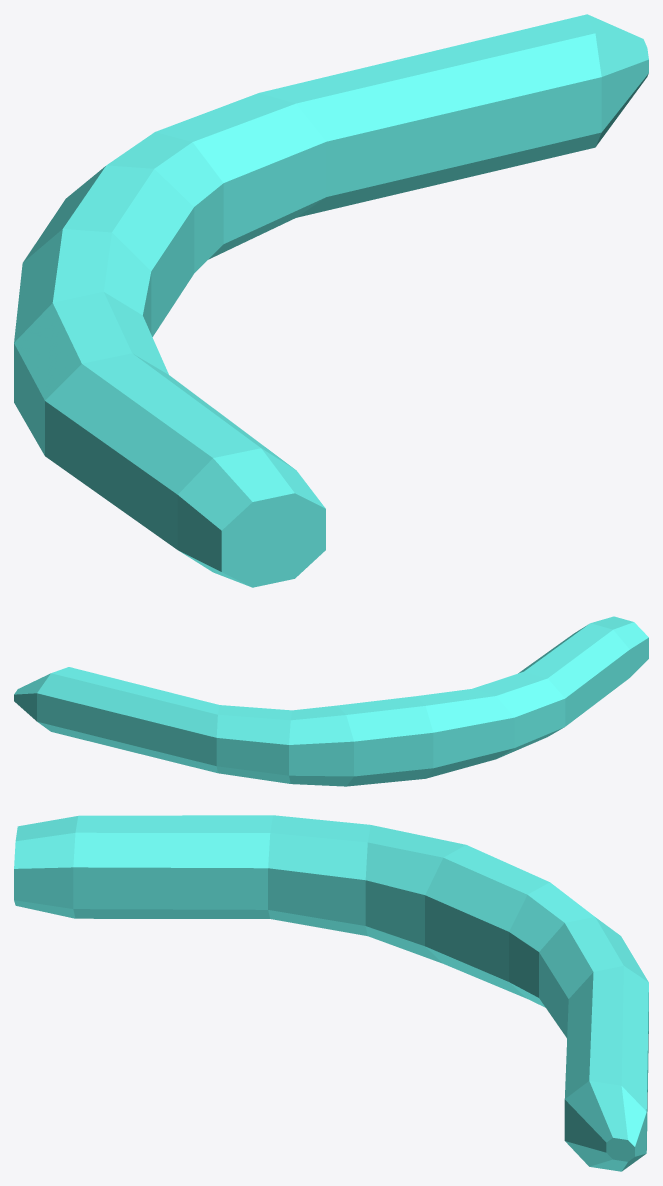
The model's file is rio2.fbx.
3 views of the same model, one above another, from view 1: azimuth 30°, elevation 25°; view 2: azimuth 150°, elevation 25°; view 3: azimuth 270°, elevation 25° (orthographic). The views are drawn at different scales.
Visible parts, largest first — view 1: Cube.001; view 2: Cube.001; view 3: Cube.001.
Part boxes in pixels (bbox=[...]): Cube.001: bbox=[14, 14, 648, 587]; Cube.001: bbox=[14, 616, 648, 786]; Cube.001: bbox=[14, 815, 648, 1171].
Bounding box in the file's own units: 3162 × 515 × 2765.
